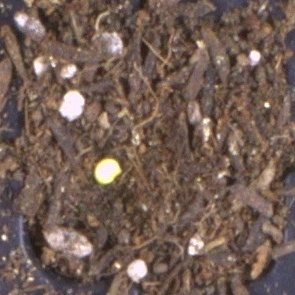chilli seed: (93, 157, 122, 185)
